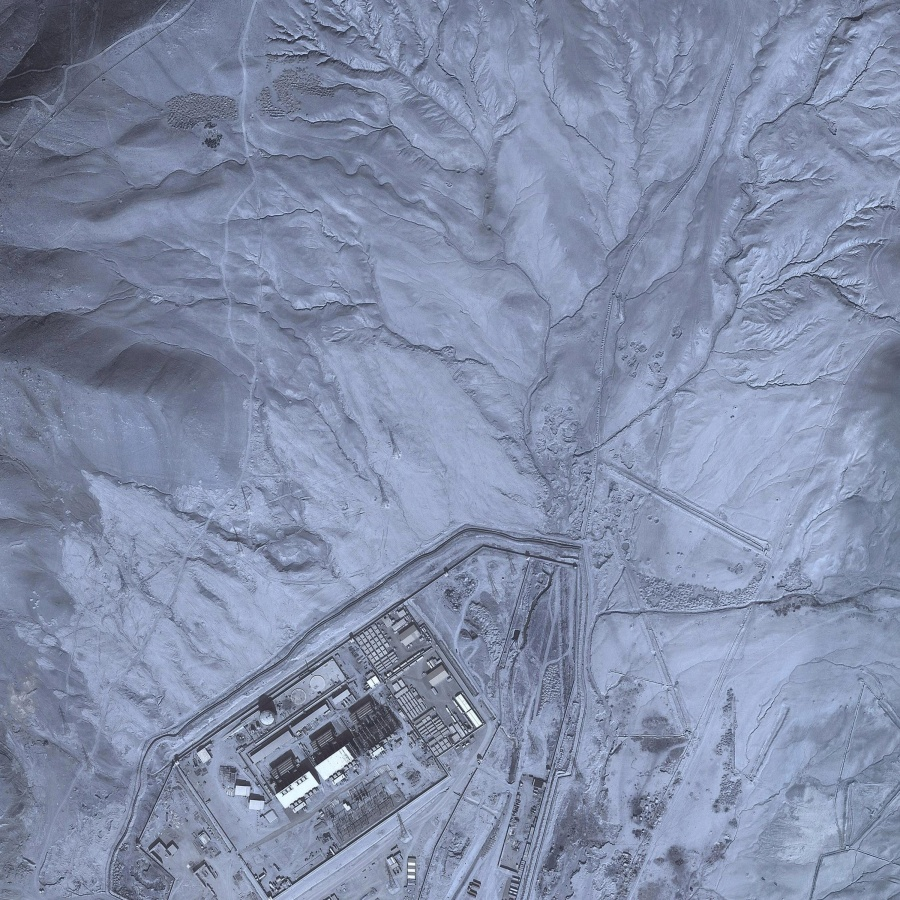PowerPlant: (232, 628, 482, 812)
